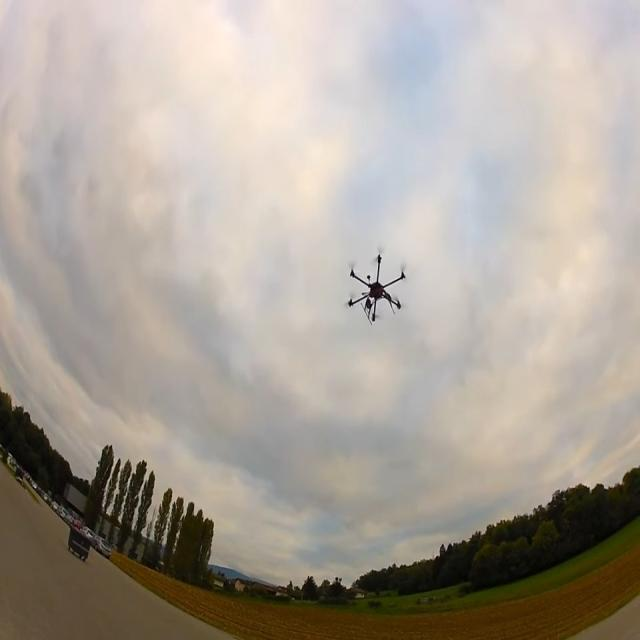drone: (347, 254, 405, 324)
